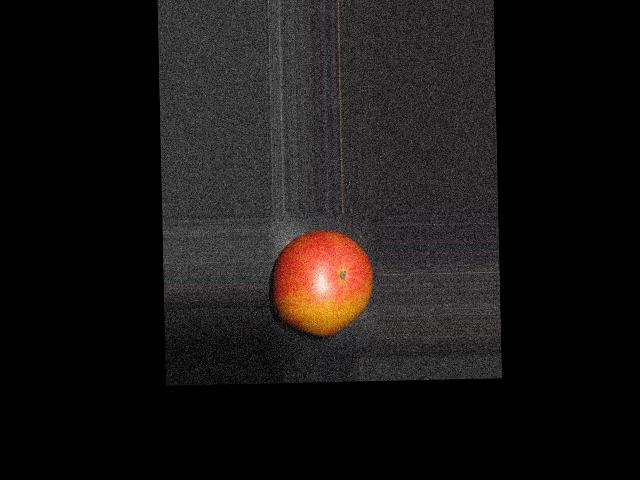tomato: (270, 229, 374, 336)
